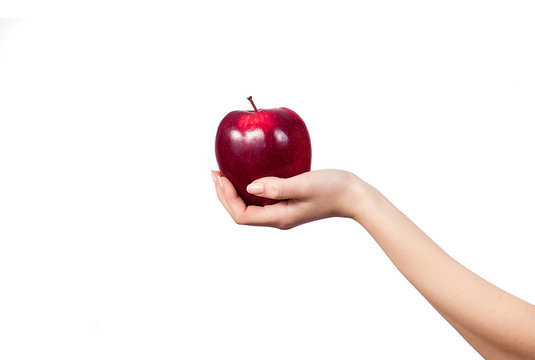apple: (213, 95, 312, 206)
